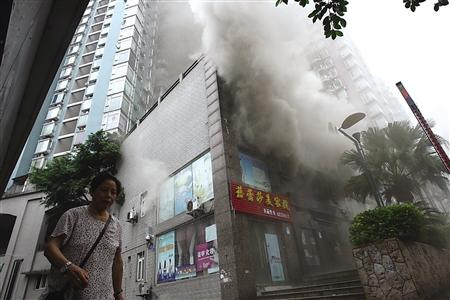smoke: (208, 8, 365, 170)
